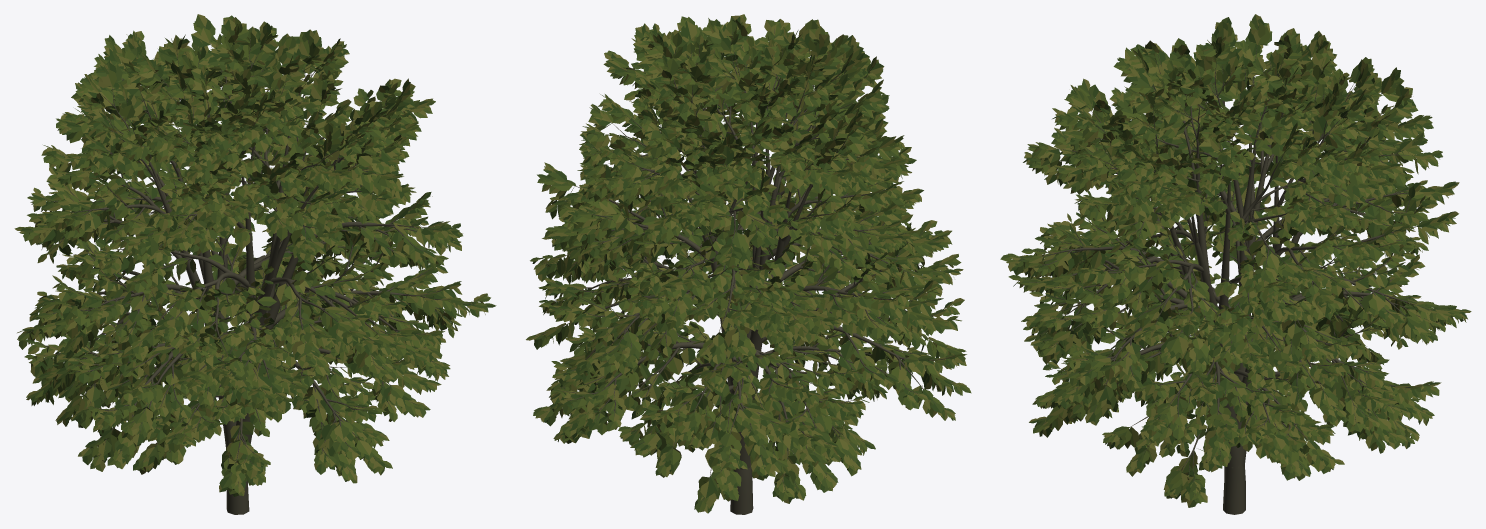
Rendered from river_maple_1.glb.
3 views of the same model, side by side, from view 1: azimuth 30°, elevation 25°; view 2: azimuth 150°, elevation 25°; view 3: azimuth 270°, elevation 25° (orthographic).
Visible parts, largest first — view 1: PendantLeaves3, TrunkAndWhips3; view 2: PendantLeaves3, TrunkAndWhips3; view 3: PendantLeaves3, TrunkAndWhips3.
Part boxes in pixels (<box>): PendantLeaves3: <box>14,14,496,496</box>; TrunkAndWhips3: <box>25,26,479,514</box>; PendantLeaves3: <box>526,14,971,513</box>; TrunkAndWhips3: <box>536,22,956,514</box>; PendantLeaves3: <box>1000,14,1471,507</box>; TrunkAndWhips3: <box>1014,26,1448,514</box>.
Size of the model in its own units: 7.36 by 7.91 by 7.35.
